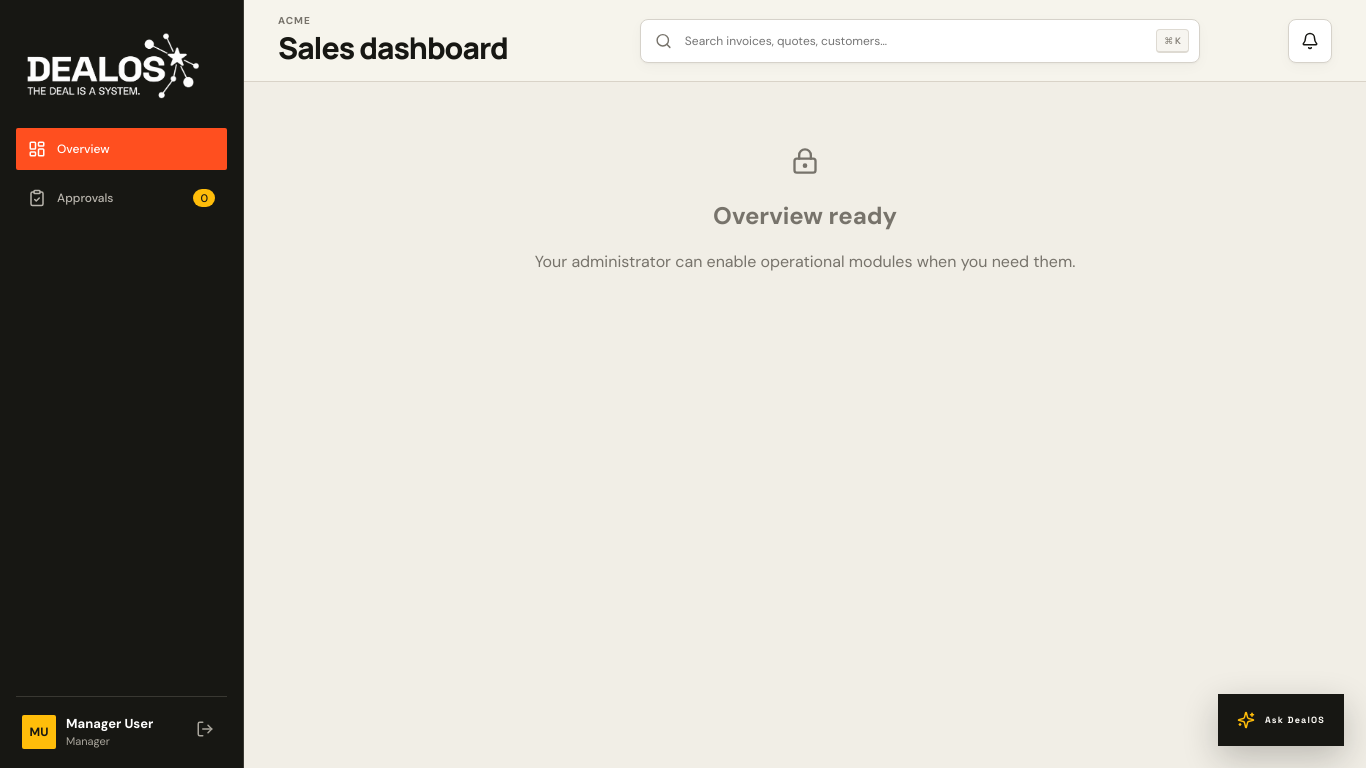
Test: DealOS public routes › filters the approval queue by pending, returned, and approved state
The width and height of the screenshot is (1366, 768).
Expected: the heading "Sales dashboard" is shown, [278,26,508,68]
What coordinates should you click on to do the following:
click the button "Approvals 0"
I would click on:
 (122, 198)
Its box is [16,177,227,219].
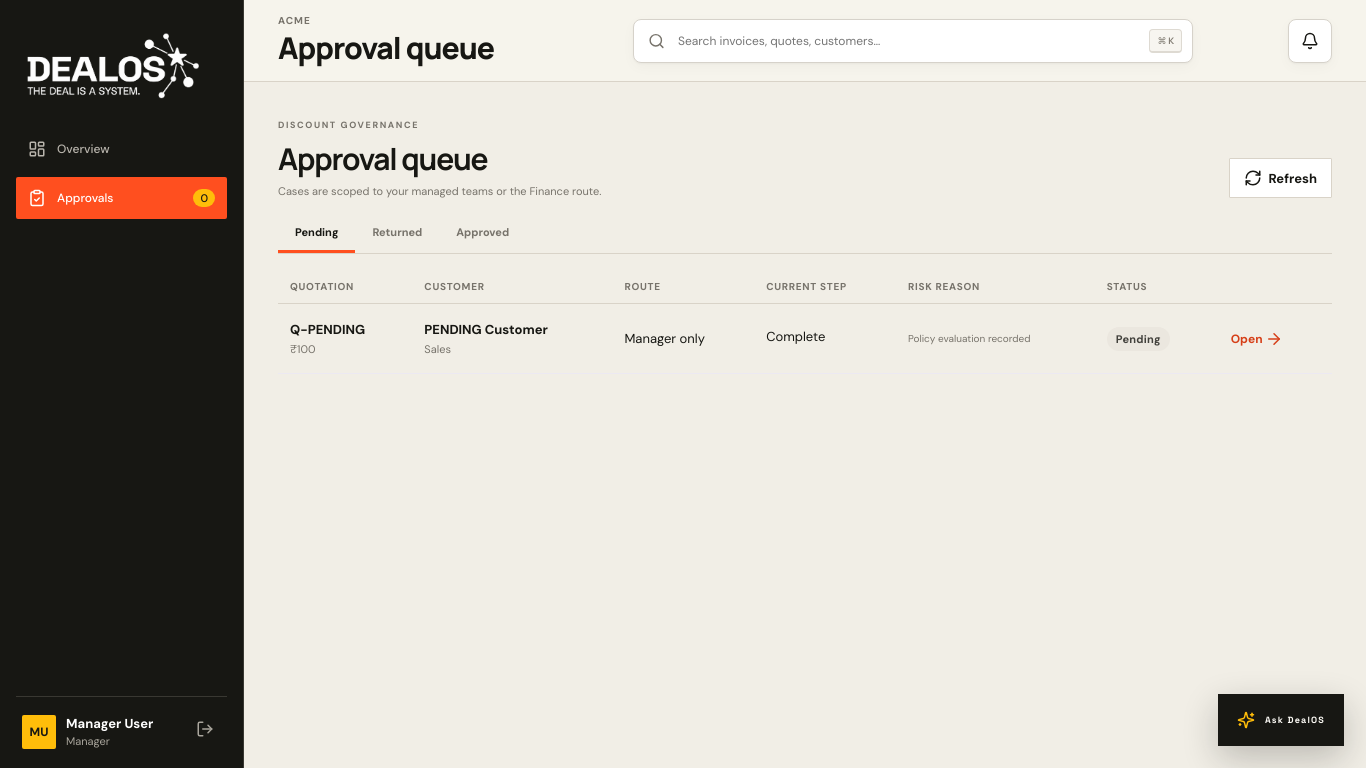
Expected: the text "Q-RETURNED" is not shown
Now the text "Q-PENDING" is shown, box [290,321,365,338]
What coordinates should you click on to do the following:
click the button "Returned"
I would click on:
 (397, 234)
Its box is [356,214,439,253].
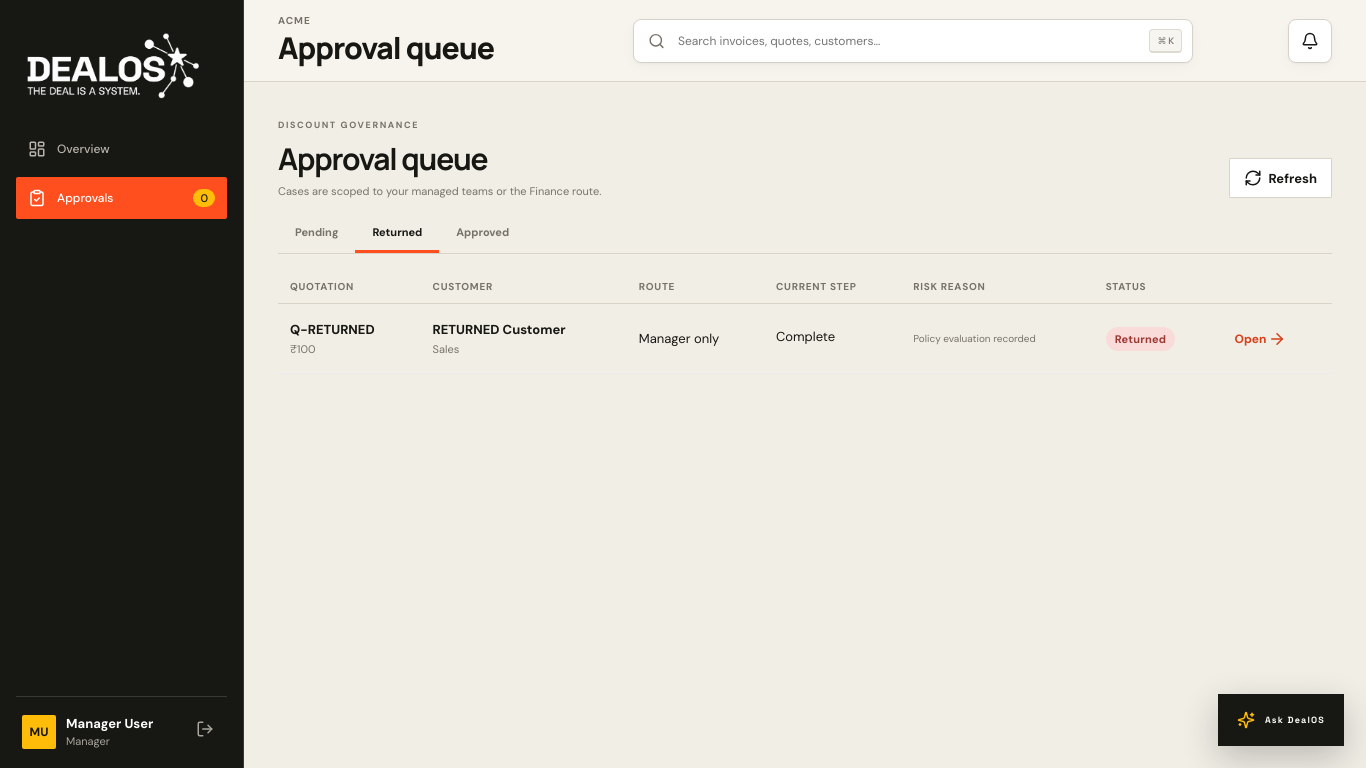
Now the text "Q-RETURNED" is shown, box [290,321,375,338]
Now the text "Q-PENDING" is gone
What coordinates should you click on to do the following:
click the button "Approved"
I would click on:
 (483, 234)
Its box is [439,214,526,253].
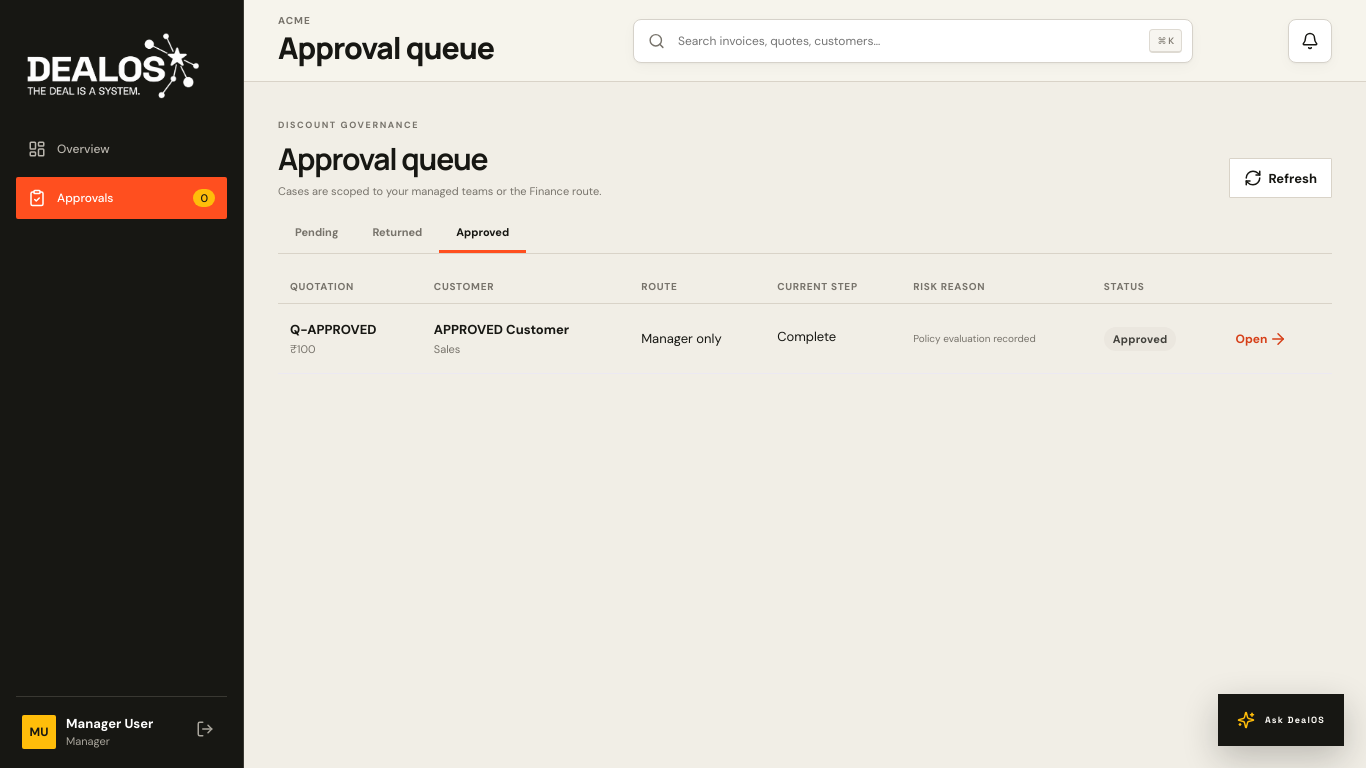
Now the text "Q-APPROVED" is shown, box [290,321,376,338]
Now the text "Q-RETURNED" is gone
